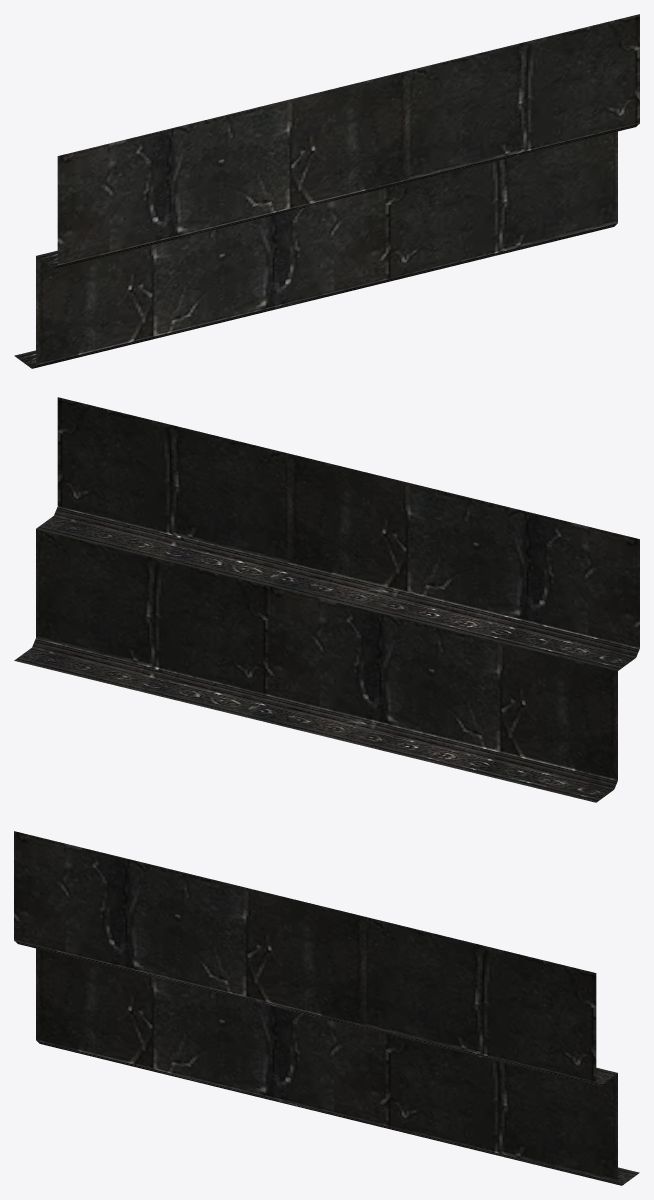
3 renders of one model, top to bottom at view 1: azimuth 30°, elevation 25°; view 2: azimuth 150°, elevation 25°; view 3: azimuth 330°, elevation 25°, orthographic.
Parts seen in each view (by area): view 1: model_Object122; view 2: model_Object122; view 3: model_Object122.
Boxes of the visible parts, x1,y1,x2,y2 form: model_Object122: (14,14,639,368); model_Object122: (14,397,639,802); model_Object122: (14,831,639,1185).
Bounding box in the file's own units: 2.86 × 1.09 × 0.3718.
1 material, 1 textured.
